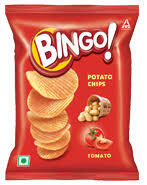VEG: (17, 154, 30, 167)
